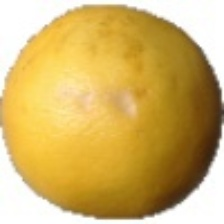grapes: (22, 25, 186, 192)
